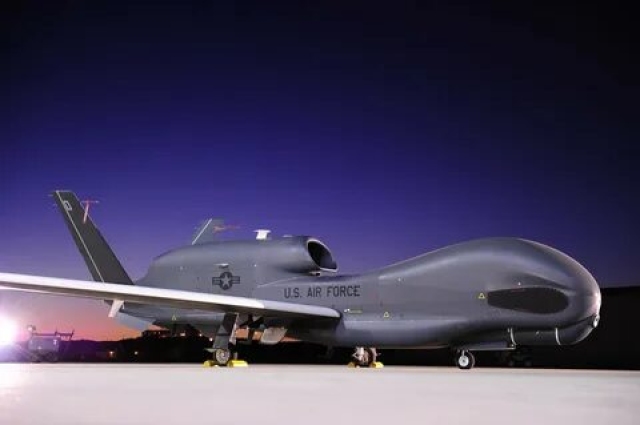military drone: (0, 189, 602, 368)
